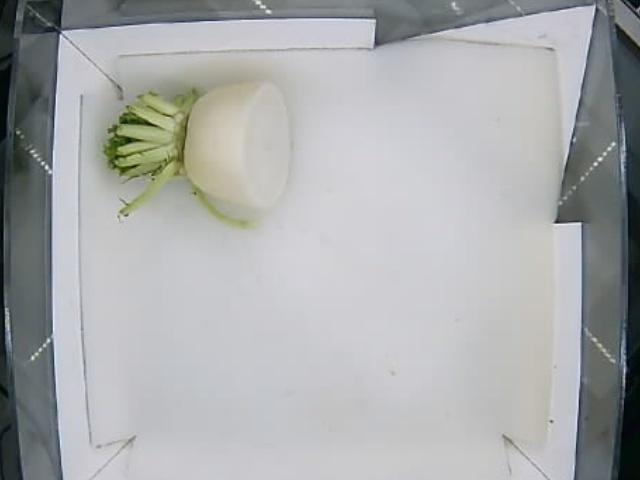Mooli: (107, 79, 289, 229)
